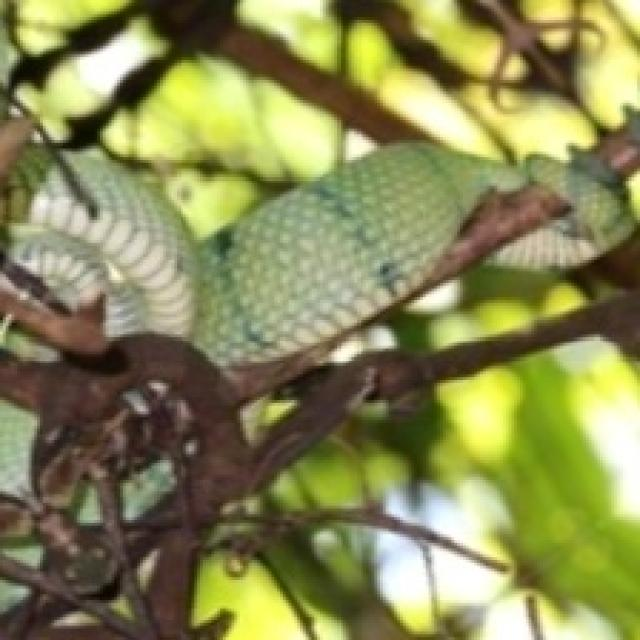north ph temple pitviper: (46, 143, 569, 394)
